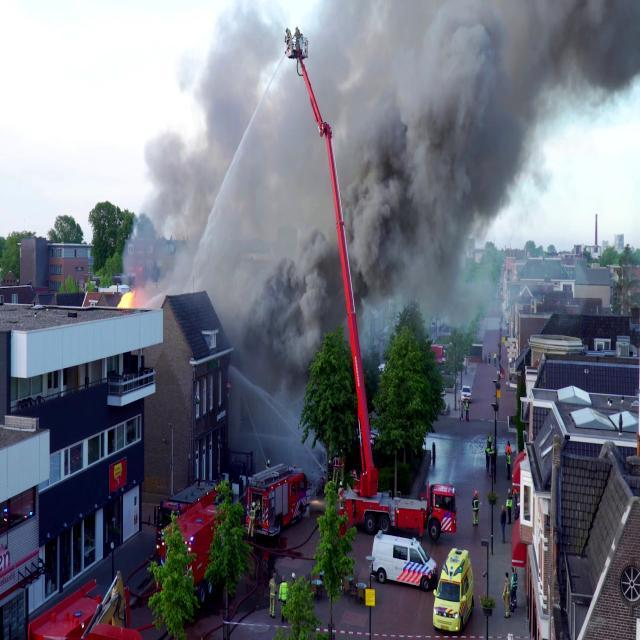Fire: (116, 286, 140, 312)
Smoke: (141, 0, 640, 329)
